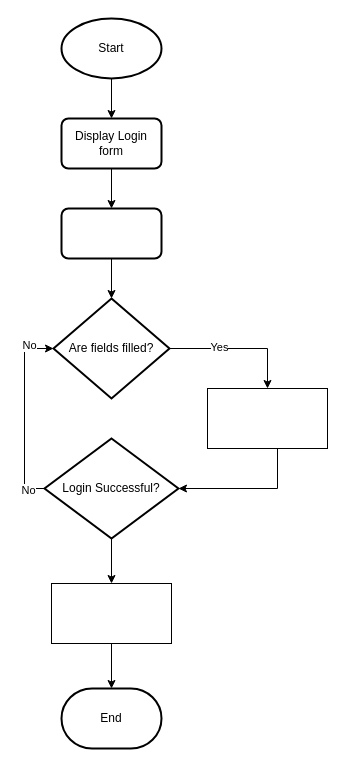
This 345x766 diagram has some shape labels left out. Each missing label, with the box of its shape:
Redirect to homepage: (50, 582, 172, 644)
Send to backend: (206, 388, 328, 448)
User submits form: (60, 207, 162, 259)
